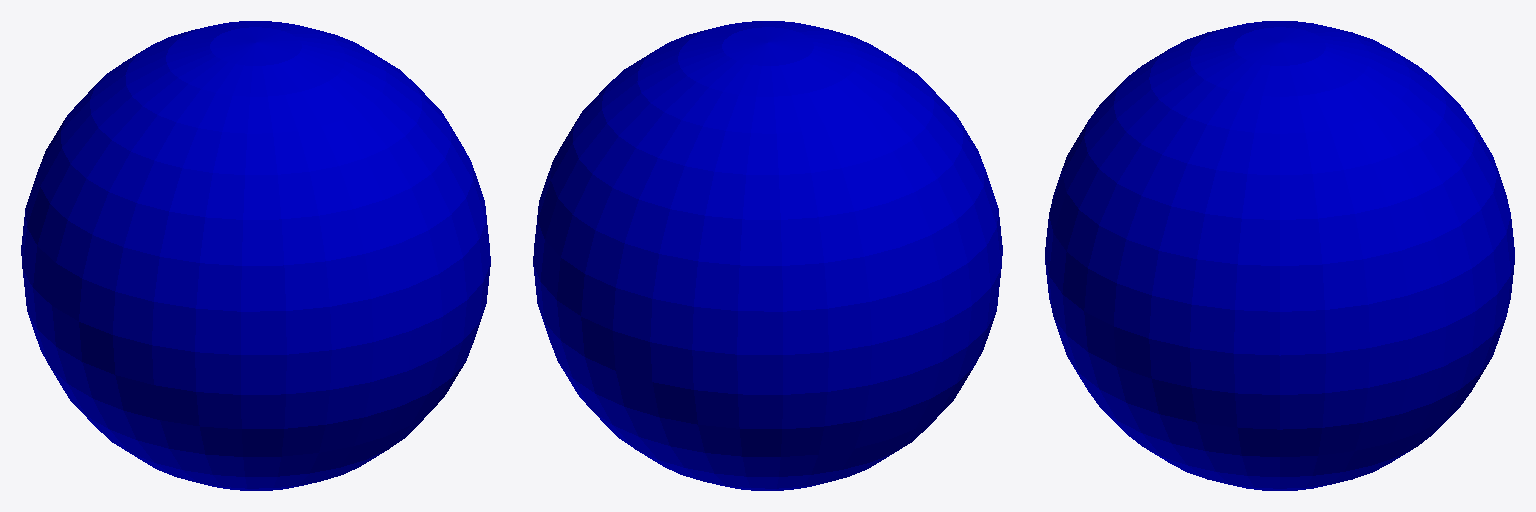
The model's file is ShapeCircle.obj.
3 renders of one model, left to right at view 1: azimuth 30°, elevation 25°; view 2: azimuth 150°, elevation 25°; view 3: azimuth 270°, elevation 25°, orthographic.
Visible parts, largest first — view 1: Sphere; view 2: Sphere; view 3: Sphere.
Part boxes in pixels (bbox=[...]): Sphere: bbox=[21, 21, 490, 490]; Sphere: bbox=[533, 21, 1002, 490]; Sphere: bbox=[1045, 21, 1514, 490].
Size of the model in its own units: 2 by 2 by 2.